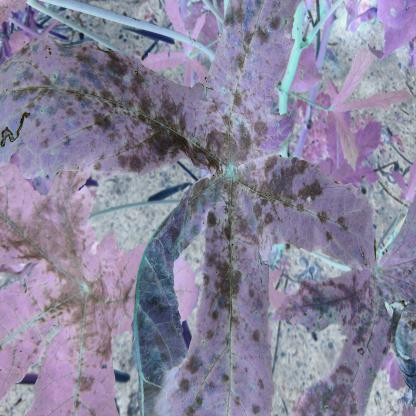Squash Powdery mildew leaf: (0, 6, 302, 179), (151, 158, 282, 416), (242, 144, 387, 282), (287, 266, 391, 416)
